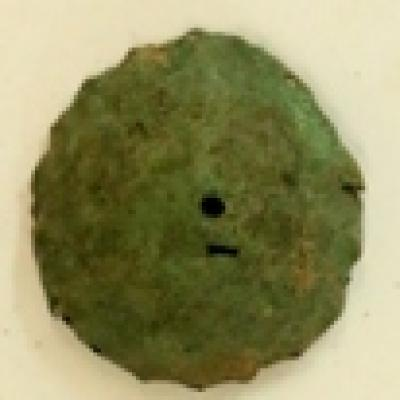archeology: (27, 28, 365, 392)
